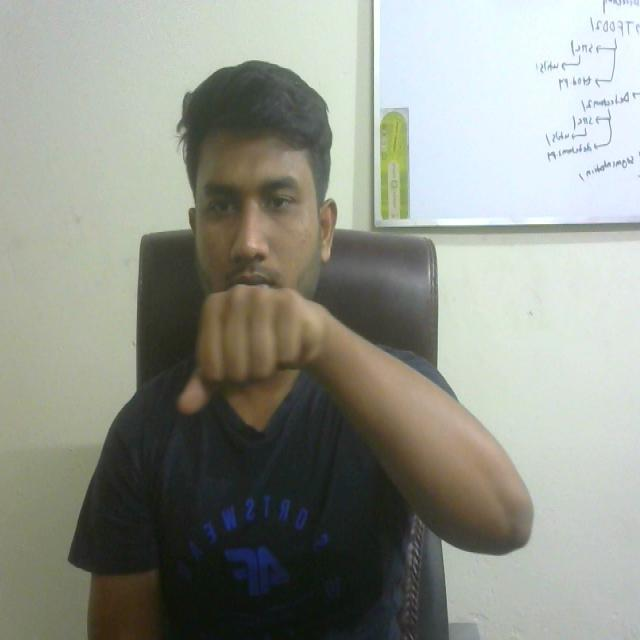I: (162, 259, 359, 444)
